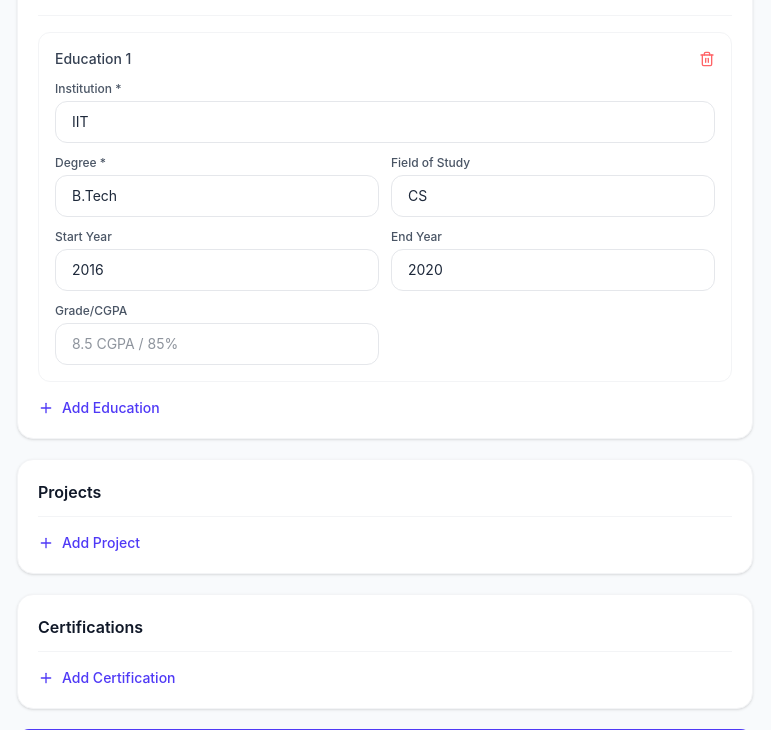
it: EditProfile — Projects › adds new project entry when Add Project clicked
(page scrolled)
What coordinates should you click on to do the following:
click the button "Add Project"
I would click on:
 (89, 543)
Its box is [38,533,140,553].
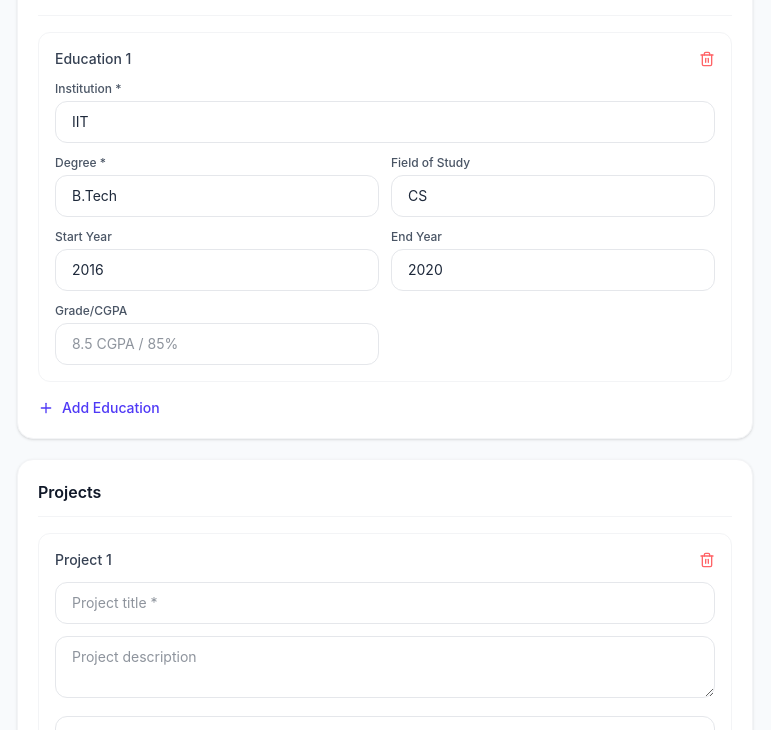
Now the text "Project 1" is shown, box [55,550,112,570]
